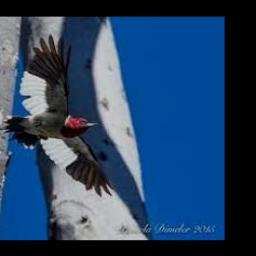Woodpecker: (0, 35, 113, 197)
